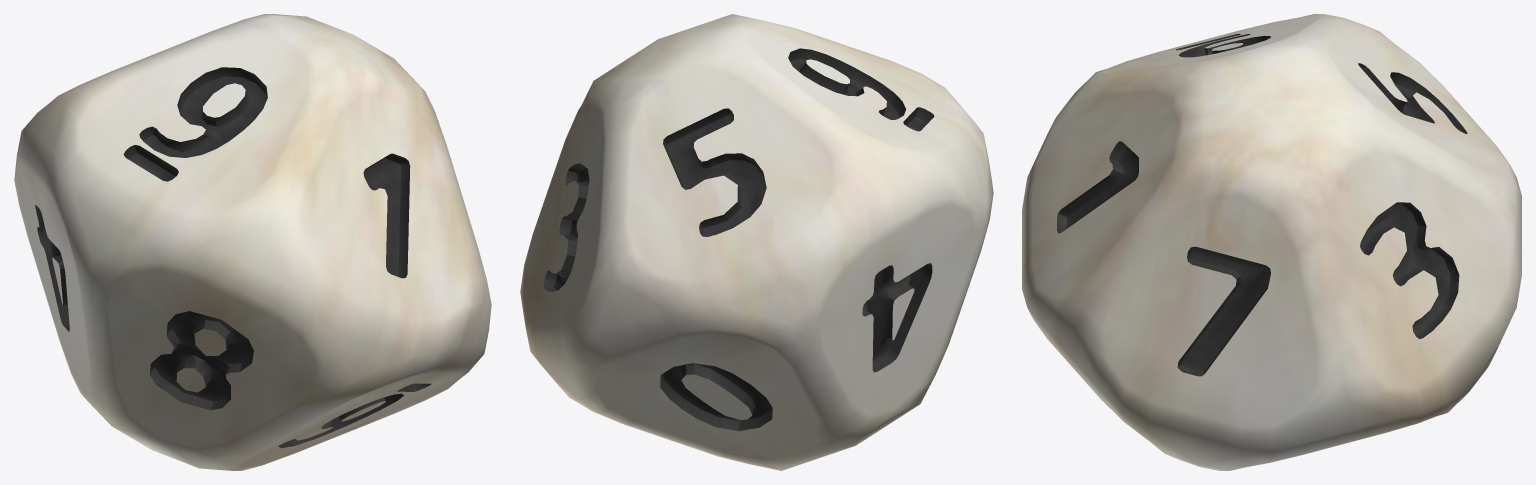
File: Dice010.fbx
3 renders of one model, left to right at view 1: azimuth 30°, elevation 25°; view 2: azimuth 150°, elevation 25°; view 3: azimuth 270°, elevation 25°, orthographic. The views are drawn at different scales.
Visible parts, largest first — view 1: Dice010; view 2: Dice010; view 3: Dice010.
Boxes of the visible parts, x1,y1,x2,y2 form: Dice010: [14, 14, 491, 470]; Dice010: [520, 14, 993, 470]; Dice010: [1022, 14, 1521, 470].
Bounding box in the file's own units: 3.5 × 3.41 × 3.71.
1 material, 1 textured.
